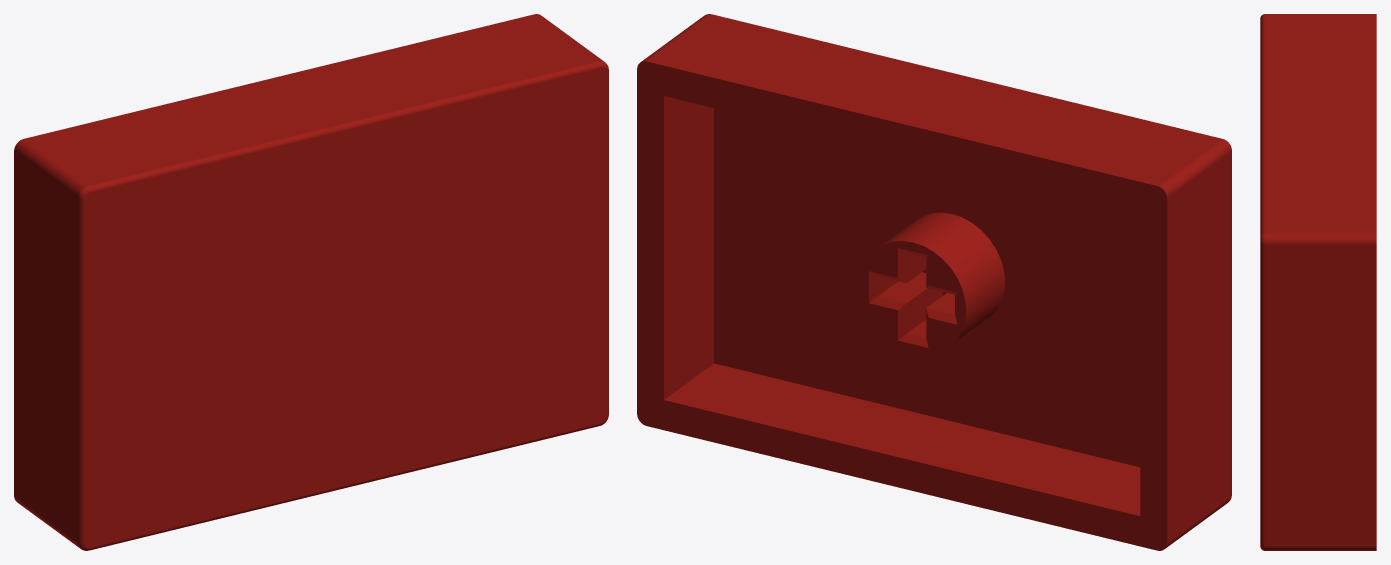
File: 150_FLAT.fbx
3 renders of one model, left to right at view 1: azimuth 30°, elevation 25°; view 2: azimuth 150°, elevation 25°; view 3: azimuth 270°, elevation 25°, orthographic. The views are drawn at different scales.
Parts seen in each view (by area): view 1: Body1; view 2: Body1; view 3: Body1.
Boxes of the visible parts, x1,y1,x2,y2 form: Body1: (14, 14, 608, 550); Body1: (637, 14, 1231, 550); Body1: (1260, 14, 1376, 550).
Bounding box in the file's own units: 27.51 × 18.08 × 6.
